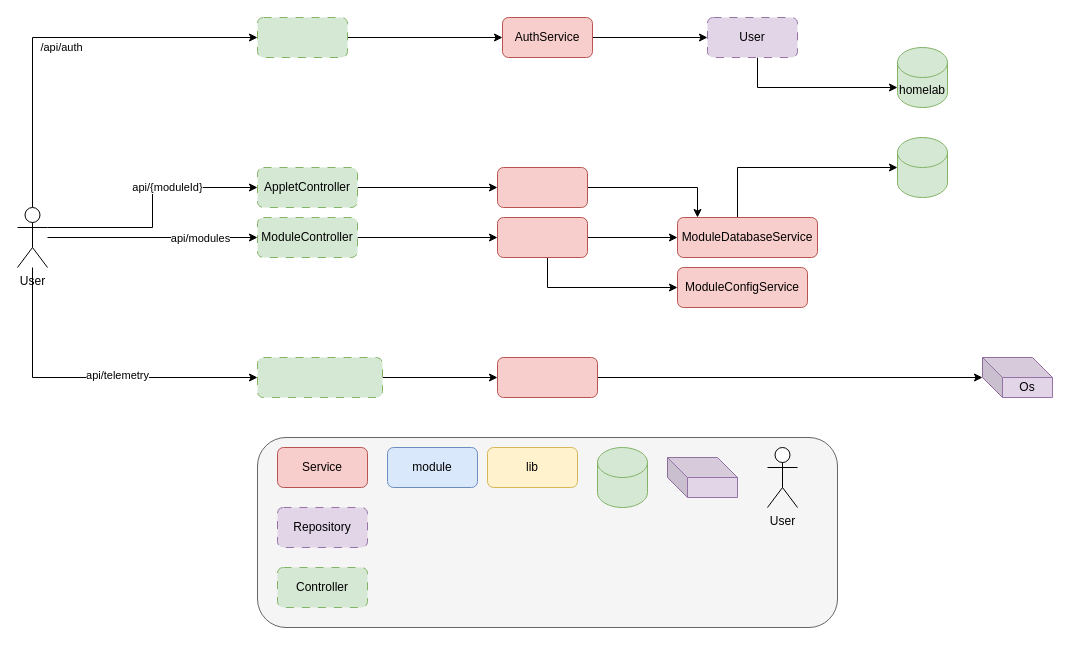
This 1070x645 diagram has some shape labels left out. The shapes that lost their labels are listed below. From the top down, each one's centre as x and y in pixels, then its label:
point (302, 37): AuthController
point (542, 187): AppletService
point (922, 167): module Schema
point (542, 237): ModuleService
point (319, 377): TelemetryController
point (547, 377): TelemetryService
point (622, 477): Schema
point (702, 477): External
